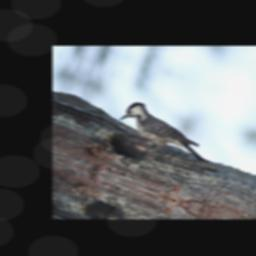Woodpecker: (109, 96, 217, 176)
